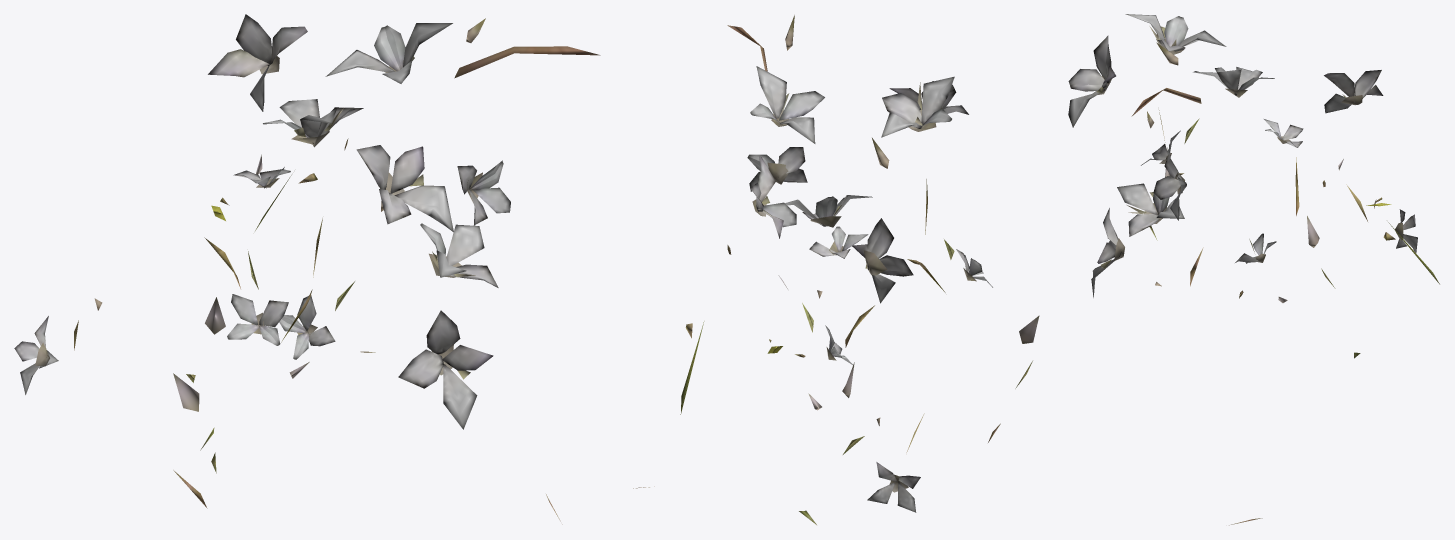
Rendered from flower_heliophila.glb.
The picture shows the model from 3 angles, left to right: view 1: azimuth 30°, elevation 25°; view 2: azimuth 150°, elevation 25°; view 3: azimuth 270°, elevation 25°; orthographic projection. The views are drawn at different scales.
Parts seen in each view (by area): view 1: flower_heliophila_small; view 2: flower_heliophila_small; view 3: flower_heliophila_small.
Boxes of the visible parts, bbox=[...] form: flower_heliophila_small: bbox=[14, 14, 600, 524]; flower_heliophila_small: bbox=[633, 15, 1039, 524]; flower_heliophila_small: bbox=[1068, 14, 1439, 525].
Bounding box in the file's own units: 0.18 × 0.2222 × 0.1712.
1 material, 1 textured.
